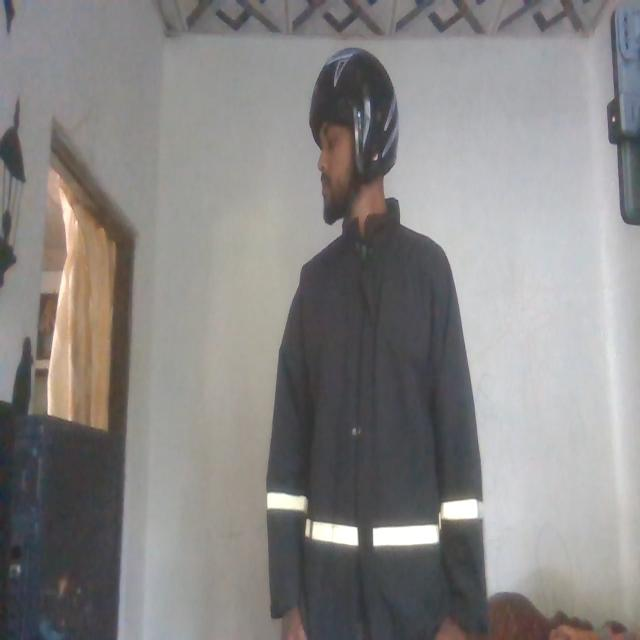Helmet_Wearer: (292, 50, 398, 221)
Jacket_Wearer: (267, 226, 484, 640)
Person: (269, 49, 477, 640)
